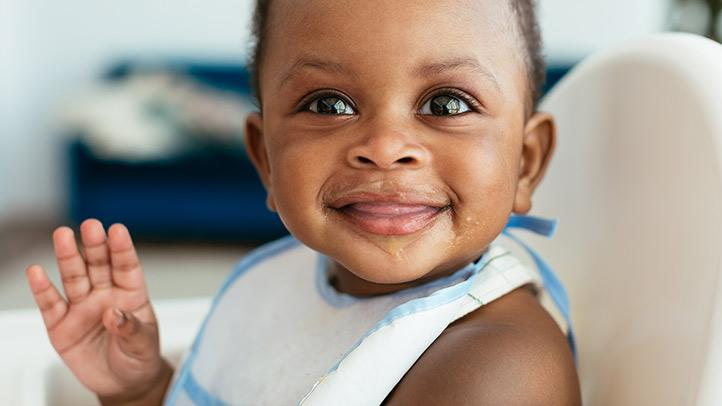Healthy: (237, 3, 564, 299)
